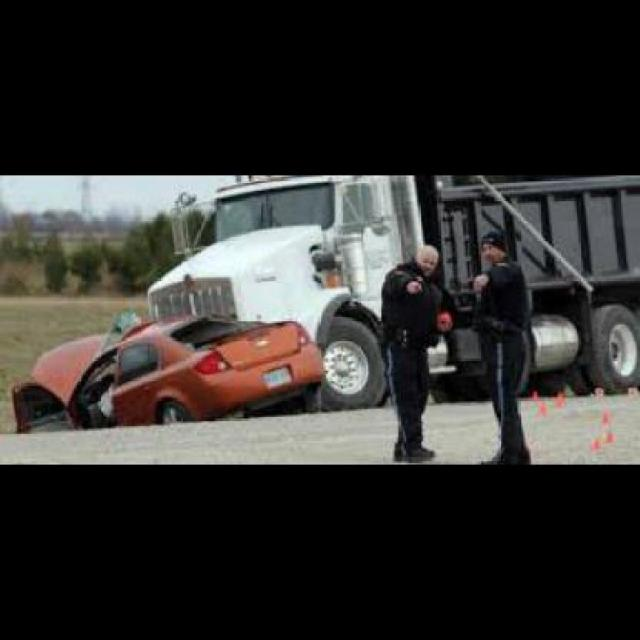accident: (4, 179, 638, 430)
